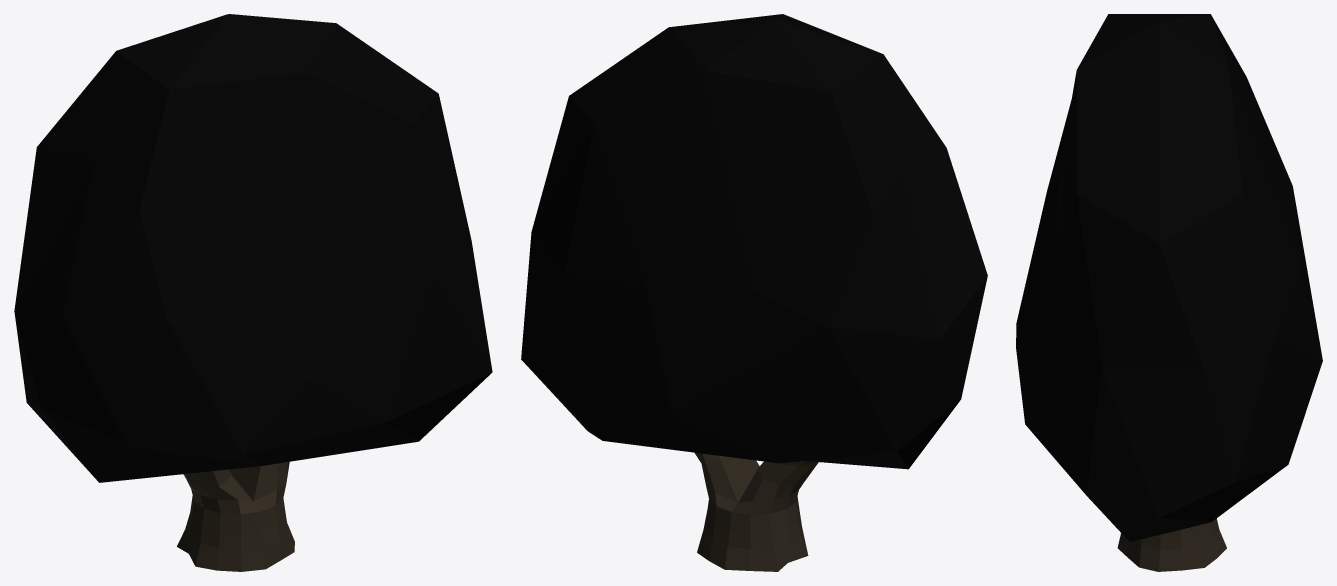
File: bush2.fbx
The picture shows the model from 3 angles, left to right: view 1: azimuth 30°, elevation 25°; view 2: azimuth 150°, elevation 25°; view 3: azimuth 270°, elevation 25°; orthographic projection. The views are drawn at different scales.
Parts seen in each view (by area): view 1: bush2; view 2: bush2; view 3: bush2.
Boxes of the visible parts, x1,y1,x2,y2 form: bush2: [14, 14, 492, 571]; bush2: [521, 14, 987, 571]; bush2: [1016, 14, 1322, 571].
Bounding box in the file's own units: 257 × 301 × 161.
